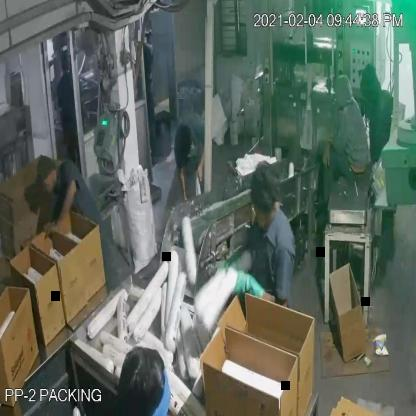glove: (226, 254, 263, 308)
no_glove: (53, 177, 83, 228), (194, 135, 210, 185), (179, 165, 190, 206)
